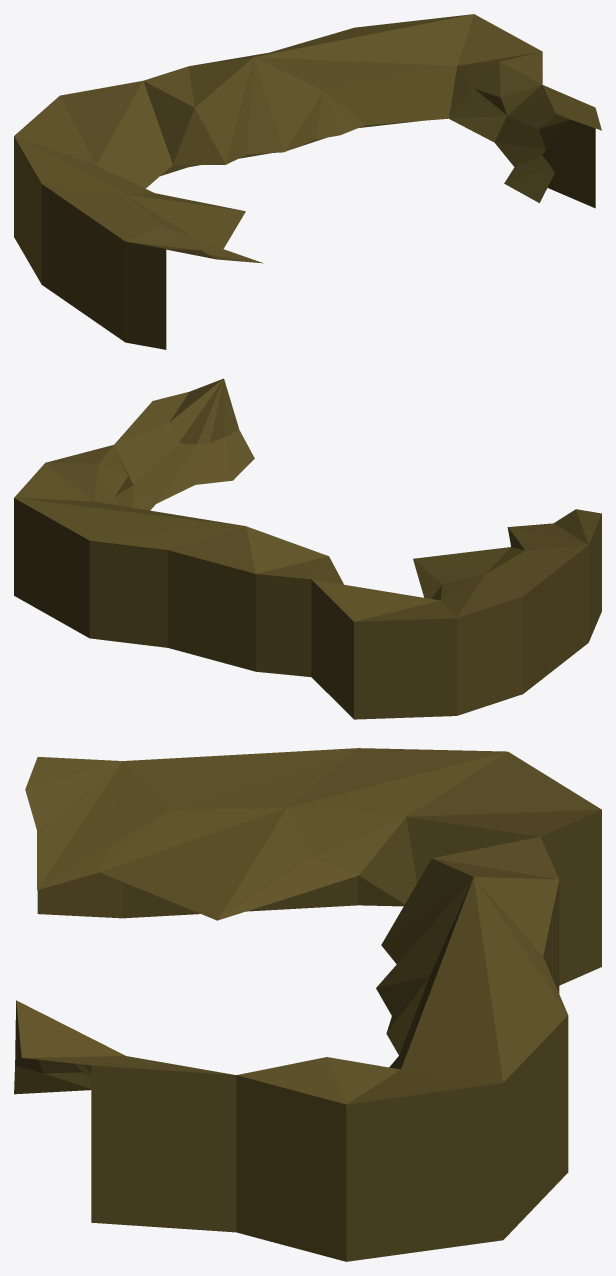
Rendered from Hills01.FBX.
3 renders of one model, top to bottom at view 1: azimuth 30°, elevation 25°; view 2: azimuth 150°, elevation 25°; view 3: azimuth 270°, elevation 25°, orthographic. The views are drawn at different scales.
Visible parts, largest first — view 1: AtomicHills; view 2: AtomicHills; view 3: AtomicHills.
Part boxes in pixels (box(x1,y1,x2,y2)): AtomicHills: box(14, 14, 601, 349); AtomicHills: box(14, 378, 601, 719); AtomicHills: box(14, 748, 601, 1261).
Bounding box in the file's own units: 291312 × 82773 × 191531.
